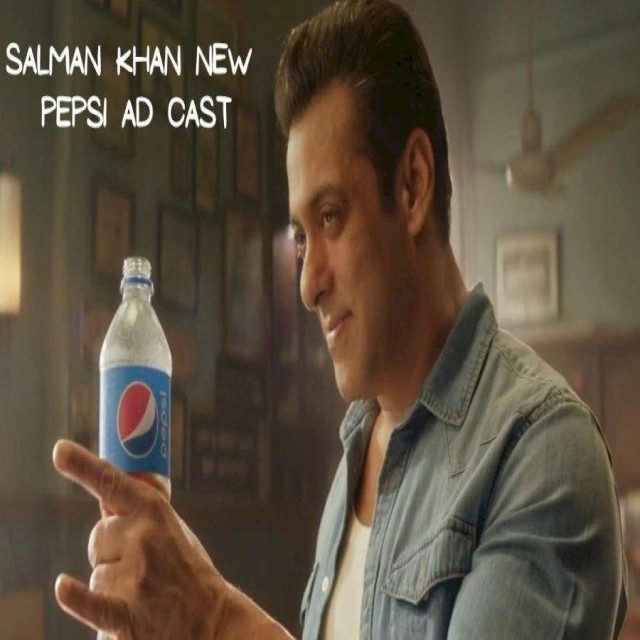pepsi: (118, 378, 160, 466)
